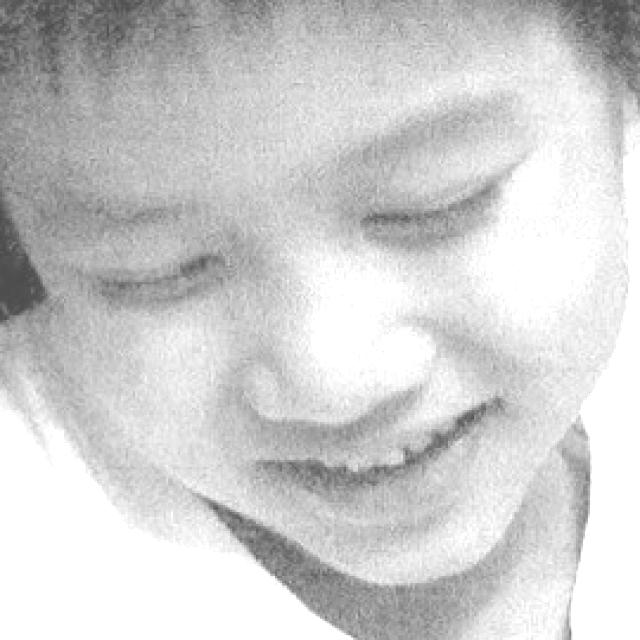real: (8, 0, 627, 585), (68, 160, 516, 314)
